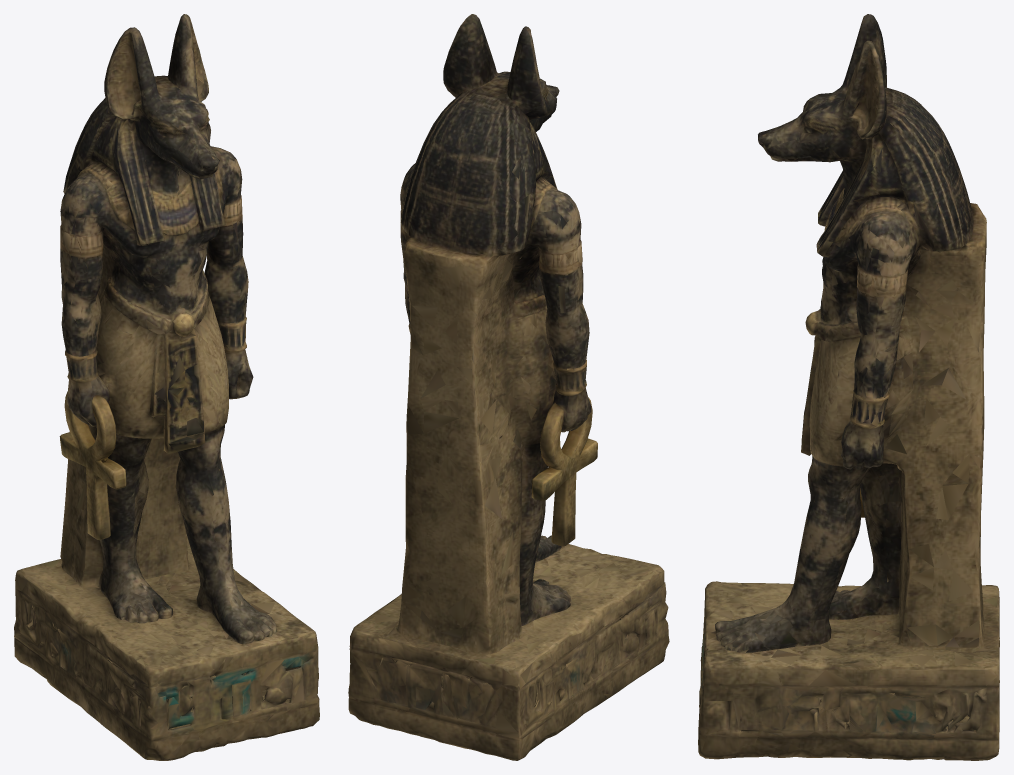
The model's file is statue_anubis.glb.
3 renders of one model, left to right at view 1: azimuth 30°, elevation 25°; view 2: azimuth 150°, elevation 25°; view 3: azimuth 270°, elevation 25°, orthographic. The views are drawn at different scales.
Parts seen in each view (by area): view 1: prop; view 2: prop; view 3: prop.
Boxes of the visible parts, x1,y1,x2,y2 form: prop: [14, 14, 319, 760]; prop: [348, 14, 669, 760]; prop: [698, 14, 999, 760].
Bounding box in the file's own units: 1.12 × 4 × 1.58.
Materials: 1 (1 with a texture image).
